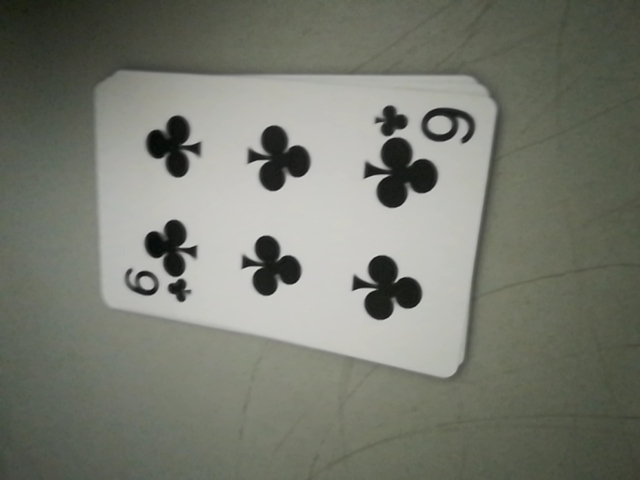mh 6: (374, 99, 483, 145), (116, 269, 191, 308)
